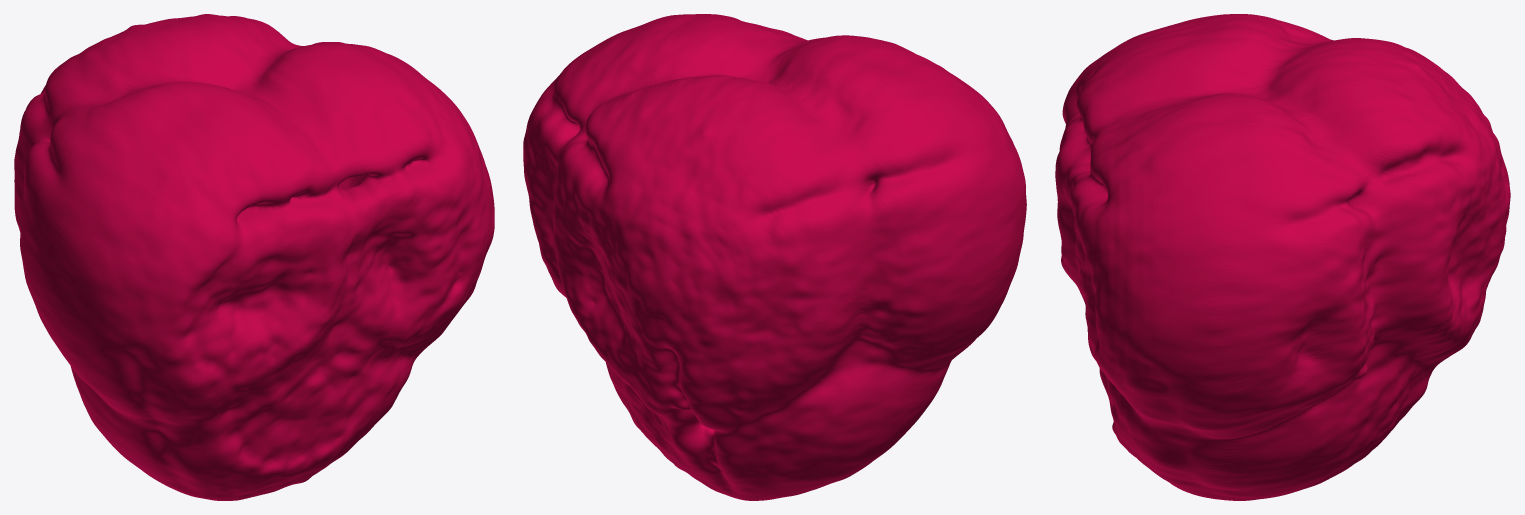
3 renders of one model, left to right at view 1: azimuth 30°, elevation 25°; view 2: azimuth 150°, elevation 25°; view 3: azimuth 270°, elevation 25°, orthographic. The views are drawn at different scales.
Parts seen in each view (by area): view 1: Pyrola_rotundifolia.ply; view 2: Pyrola_rotundifolia.ply; view 3: Pyrola_rotundifolia.ply.
Part boxes in pixels (left/top/right/bottom): Pyrola_rotundifolia.ply: left=14, top=14, right=494, bottom=500; Pyrola_rotundifolia.ply: left=523, top=14, right=1026, bottom=500; Pyrola_rotundifolia.ply: left=1055, top=14, right=1510, bottom=500.
Size of the model in its own units: 46.74 by 43.22 by 41.75.
